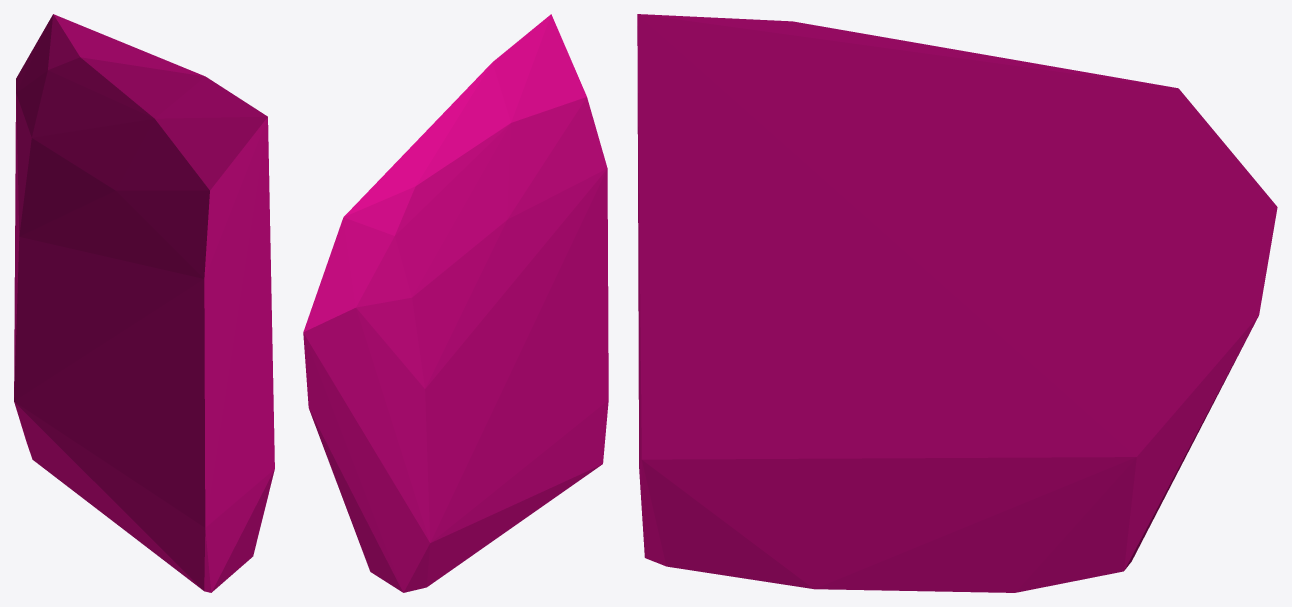
Rendered from hip-roll-housing_convex_piece_003.obj.
The picture shows the model from 3 angles, left to right: view 1: azimuth 30°, elevation 25°; view 2: azimuth 150°, elevation 25°; view 3: azimuth 270°, elevation 25°; orthographic projection. The views are drawn at different scales.
Bounding box in the file's own units: 0.013 × 0.0793 × 0.0793.
